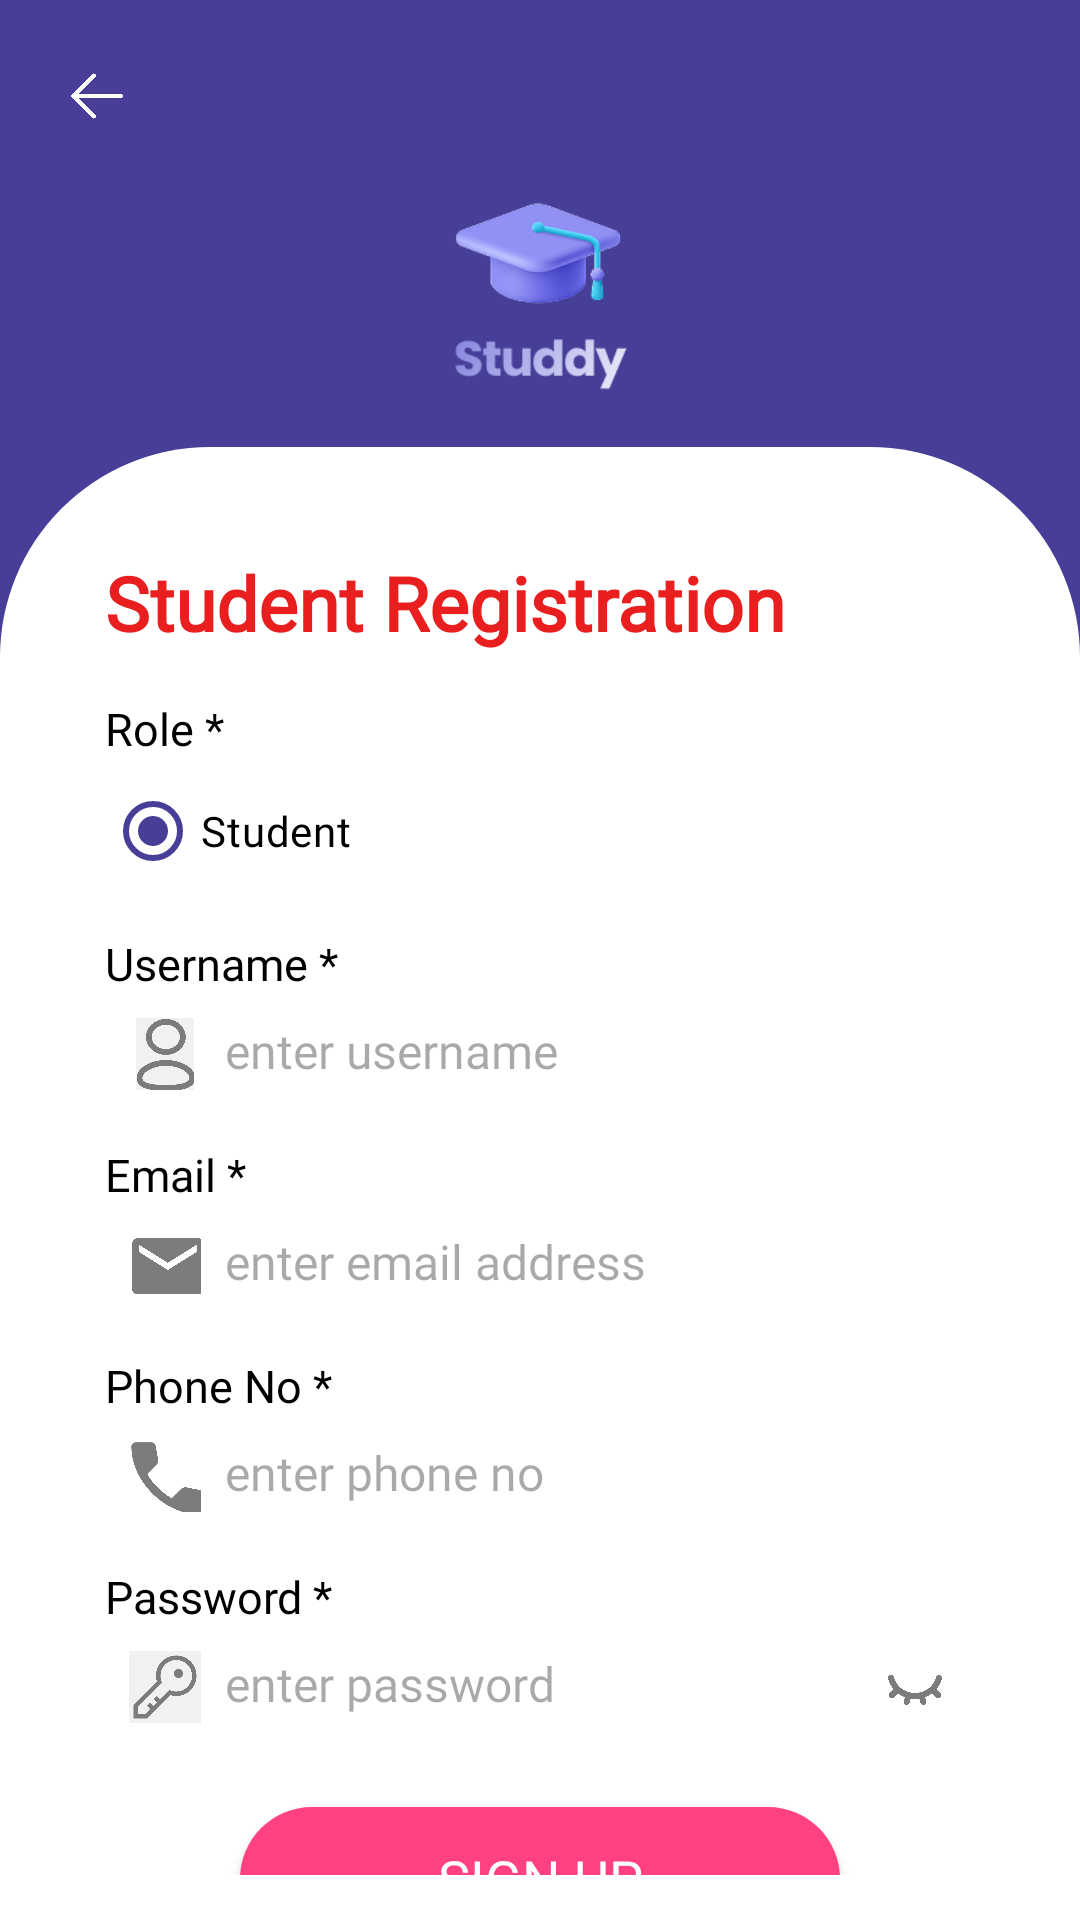

Where icons sit on this 1080w x 1920h app screen, as (x1, y1, x2, y2):
arrow back: (71, 73, 123, 119)
eye close: (888, 1675, 942, 1705)
